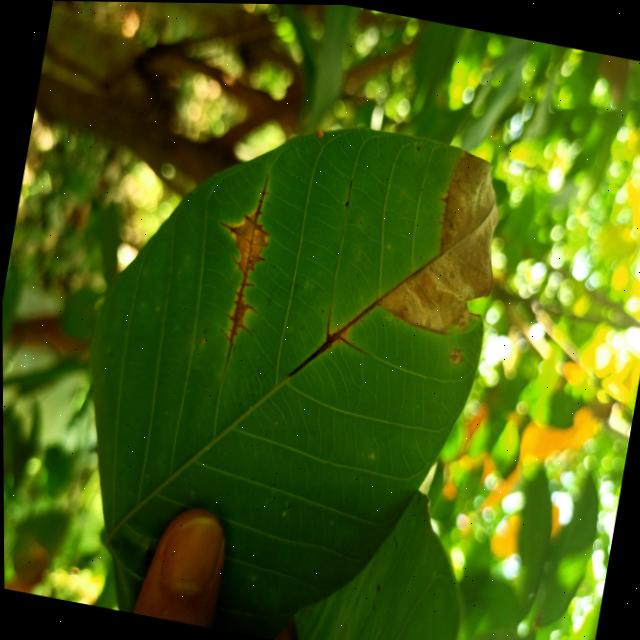Corynespora: (194, 166, 281, 369), (285, 283, 377, 389)
Leaf-Blight: (372, 138, 513, 340)
